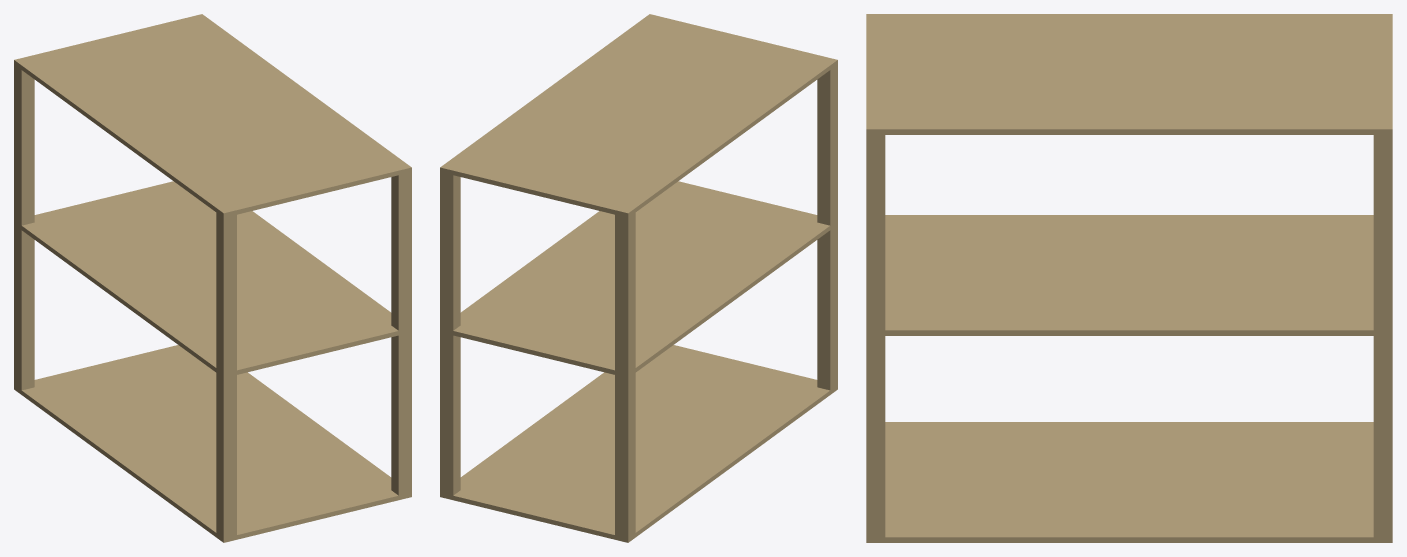
The model's file is polka.fbx.
3 views of the same model, side by side, from view 1: azimuth 30°, elevation 25°; view 2: azimuth 150°, elevation 25°; view 3: azimuth 270°, elevation 25° (orthographic). The views are drawn at different scales.
Visible parts, largest first — view 1: Box002, Box001, Box003, box2, box, box003; view 2: Box002, Box001, Box003, box003, box004, box2; view 3: Box002, Box001, Box003, box004, box.
Part boxes in pixels (box(x1,y1,x2,y2)): Box002: box(14, 14, 411, 217); Box001: box(14, 345, 411, 542); Box003: box(14, 181, 411, 377); box2: box(216, 213, 236, 538); box: box(391, 172, 411, 495); box003: box(14, 64, 34, 390); Box002: box(440, 14, 837, 217); Box001: box(440, 345, 837, 542); Box003: box(440, 181, 837, 377); box003: box(615, 213, 635, 538); box004: box(440, 172, 460, 495); box2: box(817, 64, 837, 390); Box002: box(866, 14, 1392, 134); Box001: box(866, 422, 1392, 542); Box003: box(866, 215, 1392, 335); box004: box(1373, 135, 1392, 537); box: box(866, 135, 885, 537).
Bounding box in the file's own units: 43 × 72 × 83.
